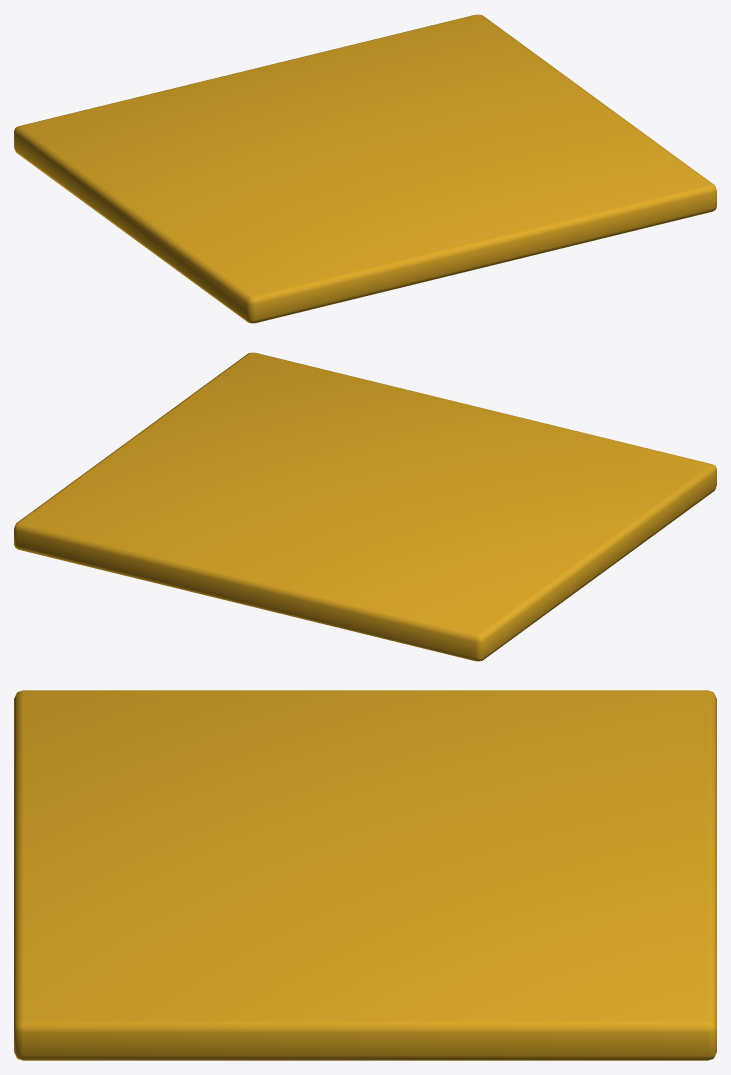
Rendered from FM_H_Doll_SH_Base_001.fbx.
The picture shows the model from 3 angles, top to bottom: view 1: azimuth 30°, elevation 25°; view 2: azimuth 150°, elevation 25°; view 3: azimuth 270°, elevation 25°; orthographic projection. The views are drawn at different scales.
Parts seen in each view (by area): view 1: FM_H_Doll_SH_Base_001; view 2: FM_H_Doll_SH_Base_001; view 3: FM_H_Doll_SH_Base_001.
Part boxes in pixels (box(x1,y1,x2,y2)): FM_H_Doll_SH_Base_001: box(14, 14, 716, 323); FM_H_Doll_SH_Base_001: box(14, 352, 716, 661); FM_H_Doll_SH_Base_001: box(14, 690, 716, 1060).
Bounding box in the file's own units: 7.18 × 0.3974 × 6.32.
